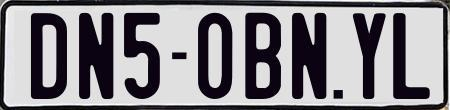0: (197, 10, 236, 101)
5: (122, 10, 162, 99)
B: (244, 12, 281, 101)
D: (31, 12, 68, 103)
L: (390, 11, 427, 97)
N: (290, 12, 330, 101), (77, 11, 116, 99)
Y: (351, 13, 389, 105)
